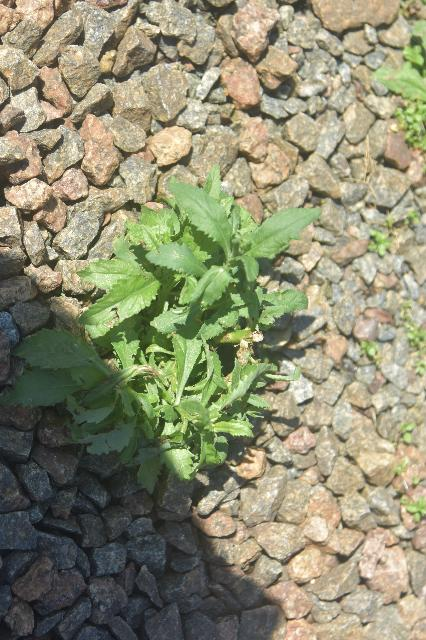MalezaMontesDelPlata: (0, 160, 343, 513), (361, 13, 426, 157)
